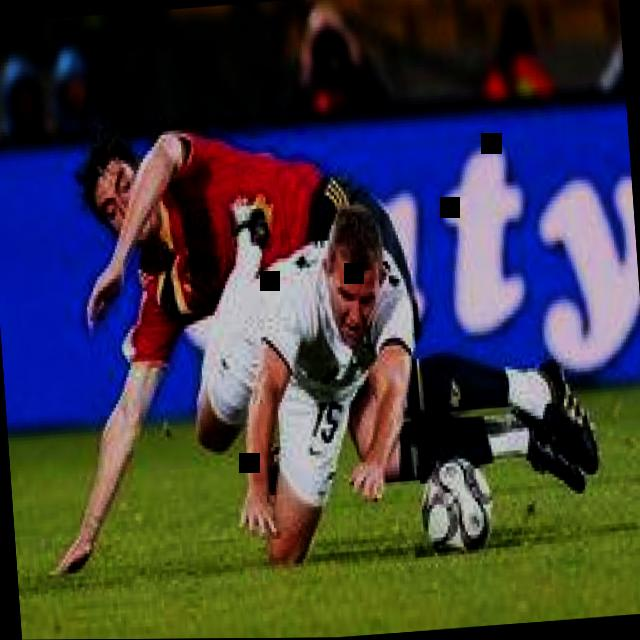Fall-Detected: (162, 161, 605, 575)
